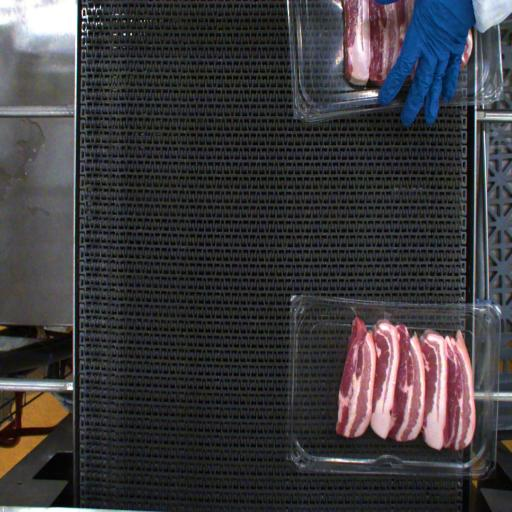packaging-error: (376, 309, 395, 325), (349, 304, 362, 320)
